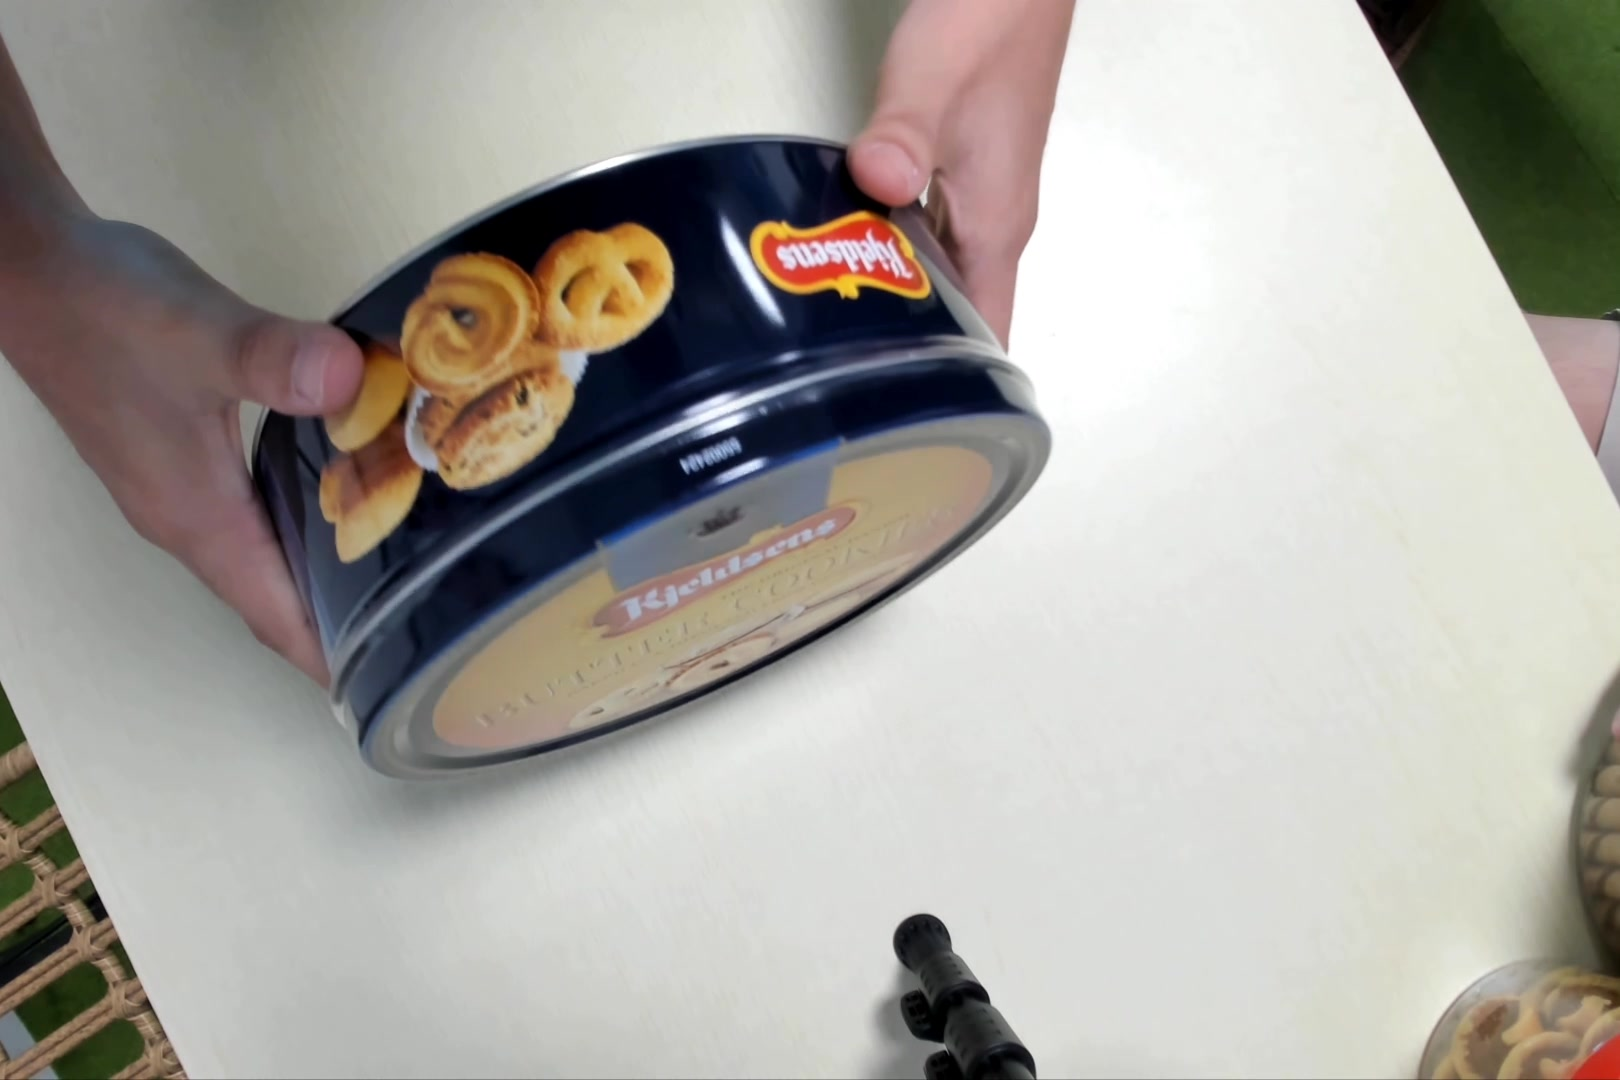BiscuitsCrackersCookies_400-499g_Halal_NonHealthy: (246, 127, 1053, 785)
